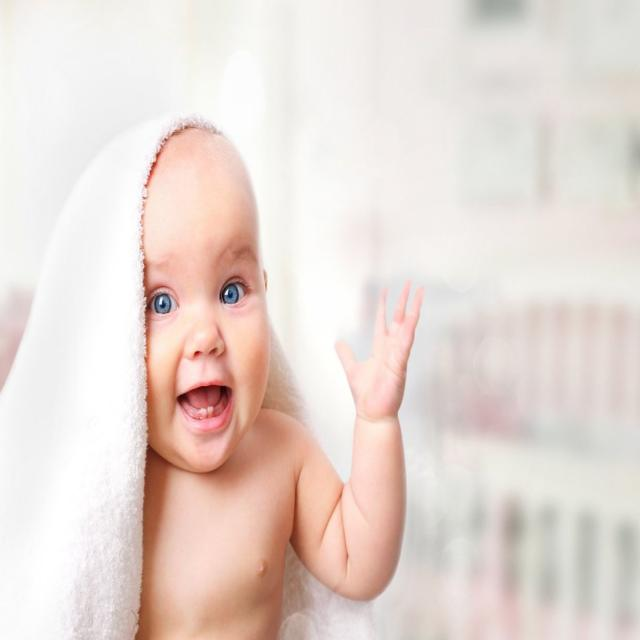child: (128, 117, 424, 640)
